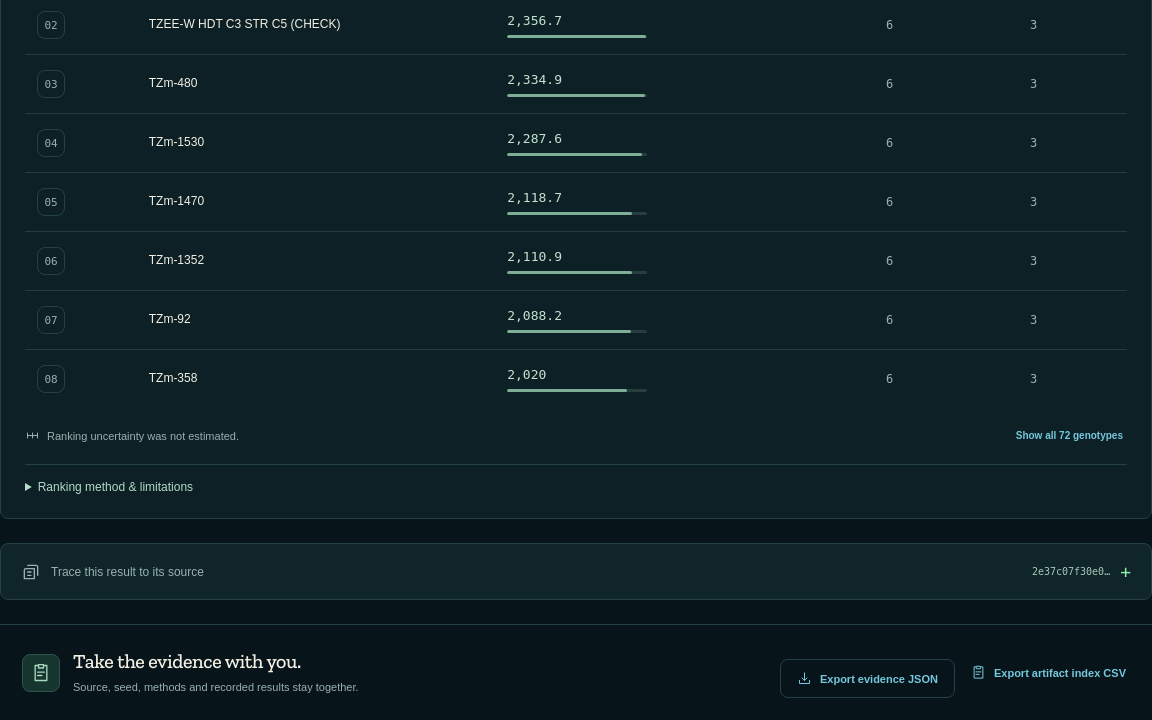
Test: shows leading observed genotypes and expands to every recorded row without resorting
(page scrolled)
Click the button "Show all 72 genotypes" at (1069, 436), box [1012,426,1127,445]
(page scrolled)
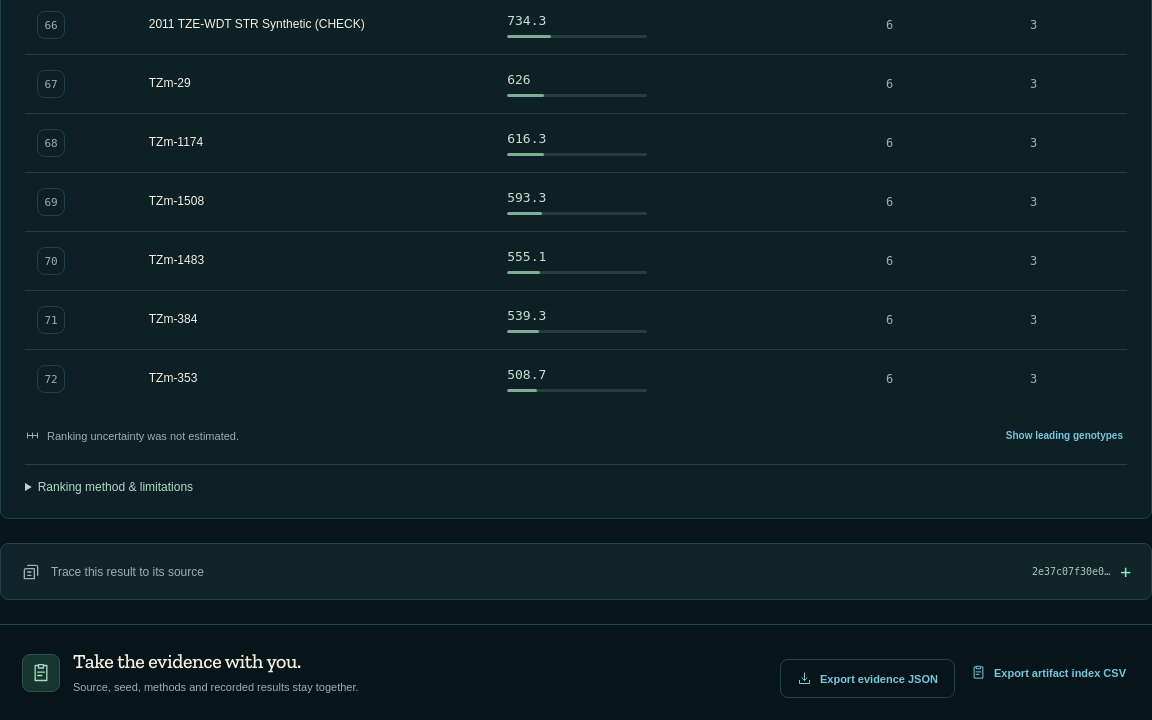
Check: the text "Ranking uncertainty was not estimated." is shown, box [25,428,239,443]
Check: the row "72 TZm-353 508.7 6 3" is shown, box [25,350,1127,408]
Click the button "Show leading genotypes" at (1064, 436), box [1002,426,1127,445]
(page scrolled)
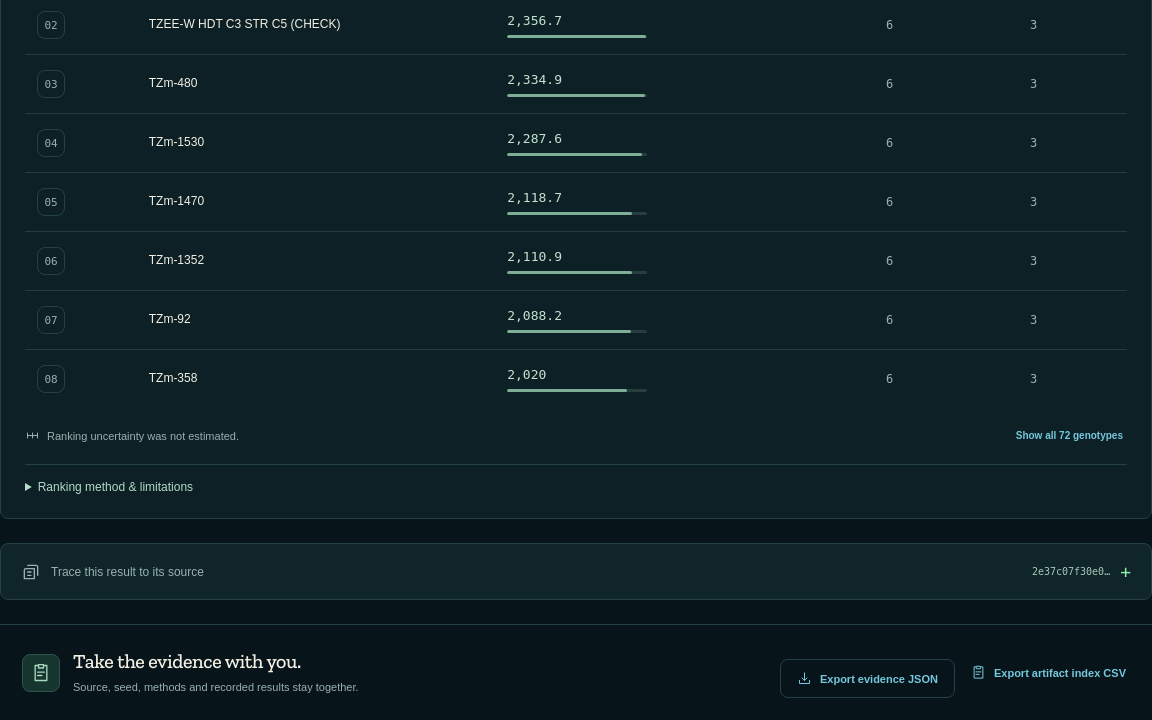
Check: the number of rows is 9
